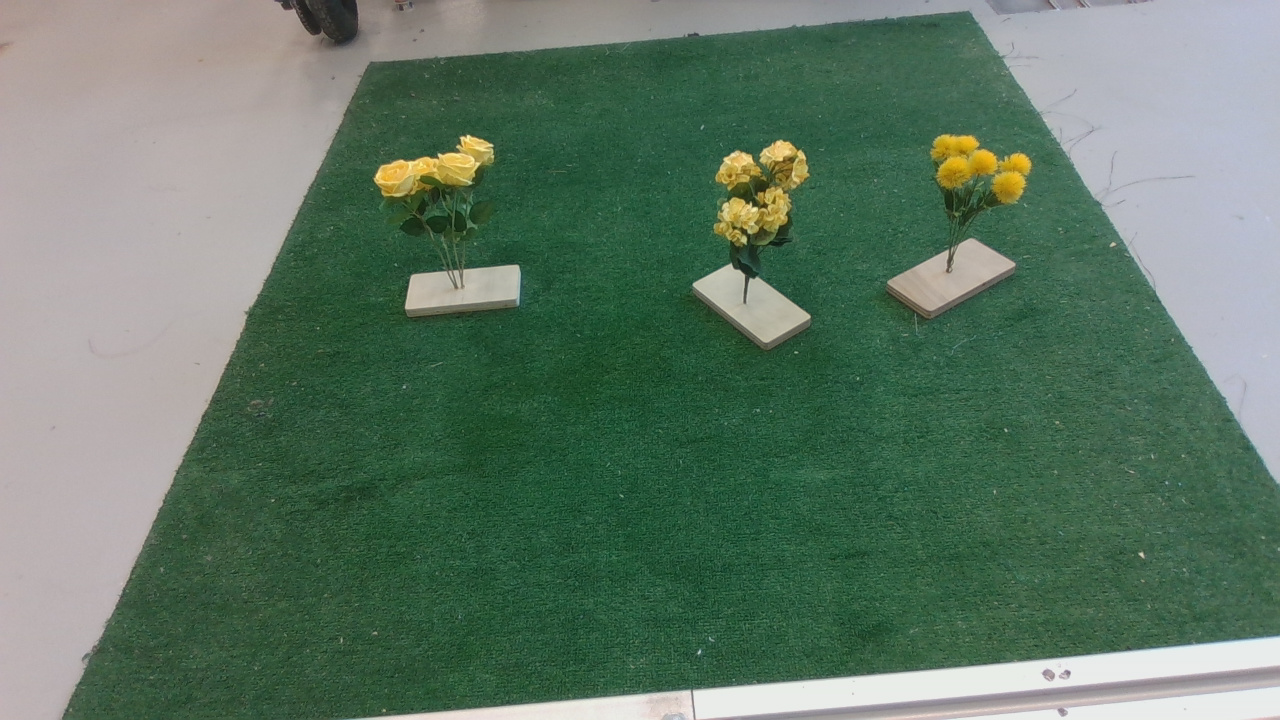dandelion: (919, 131, 1043, 238)
geranium: (697, 141, 820, 286)
rose: (377, 132, 514, 253)
